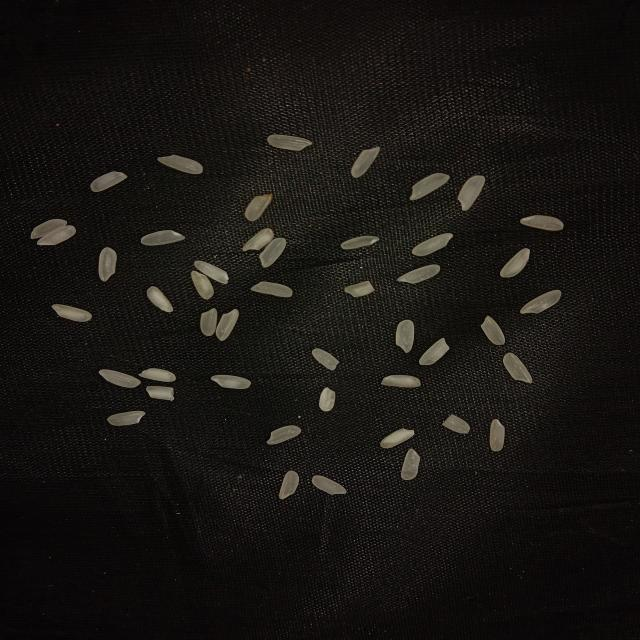Broken: (90, 171, 129, 192), (312, 348, 339, 370), (344, 280, 374, 298), (442, 415, 470, 434), (146, 385, 176, 401)
Full: (409, 172, 450, 200), (412, 233, 455, 257), (457, 174, 484, 211), (503, 352, 534, 384), (350, 146, 380, 178), (519, 291, 560, 314), (157, 155, 204, 175), (501, 247, 531, 277), (419, 338, 449, 367), (98, 369, 140, 389), (37, 225, 77, 246), (194, 261, 229, 285), (398, 265, 440, 284), (267, 134, 313, 151), (260, 238, 286, 268), (31, 218, 68, 239), (215, 309, 239, 341), (146, 286, 175, 312), (244, 195, 272, 221), (481, 316, 505, 346), (395, 320, 416, 354), (243, 228, 274, 251), (140, 230, 184, 246), (521, 214, 565, 230), (267, 425, 302, 445), (380, 428, 415, 448), (311, 475, 346, 495), (51, 305, 92, 322), (190, 270, 213, 300), (251, 281, 293, 297), (401, 449, 421, 481), (107, 410, 147, 426), (211, 374, 251, 390), (380, 374, 421, 389), (100, 247, 118, 280), (279, 471, 299, 500), (139, 367, 177, 382), (489, 418, 505, 453), (340, 236, 380, 250), (200, 308, 217, 336), (318, 387, 336, 412)
